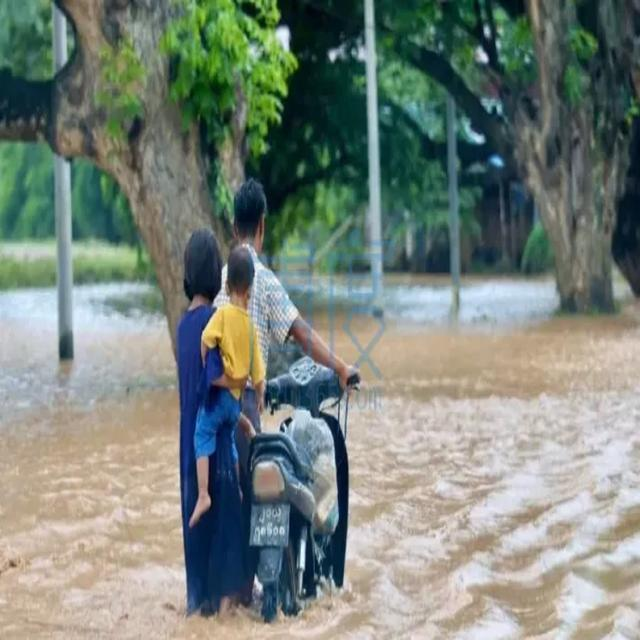Person-RiskLevel2: (160, 166, 362, 618)
